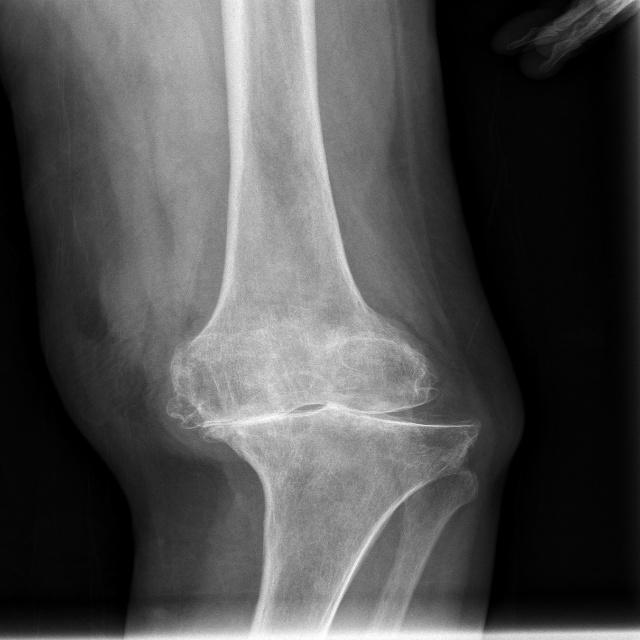Knee: (164, 325, 484, 511)
